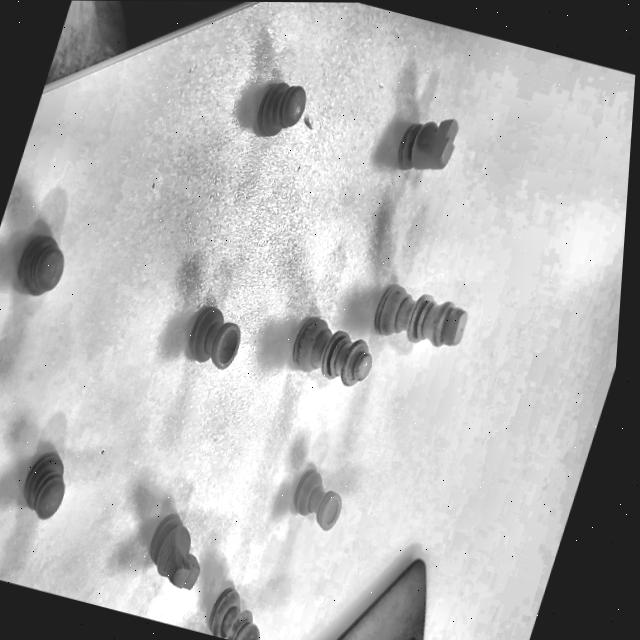white-king: (365, 264, 483, 360)
white-knight: (377, 93, 472, 198), (129, 511, 219, 593)
white-pawn: (224, 64, 329, 159), (0, 433, 87, 547), (0, 221, 77, 323)
white-queen: (265, 315, 379, 393)
white-rook: (146, 282, 262, 419), (268, 466, 354, 549)
